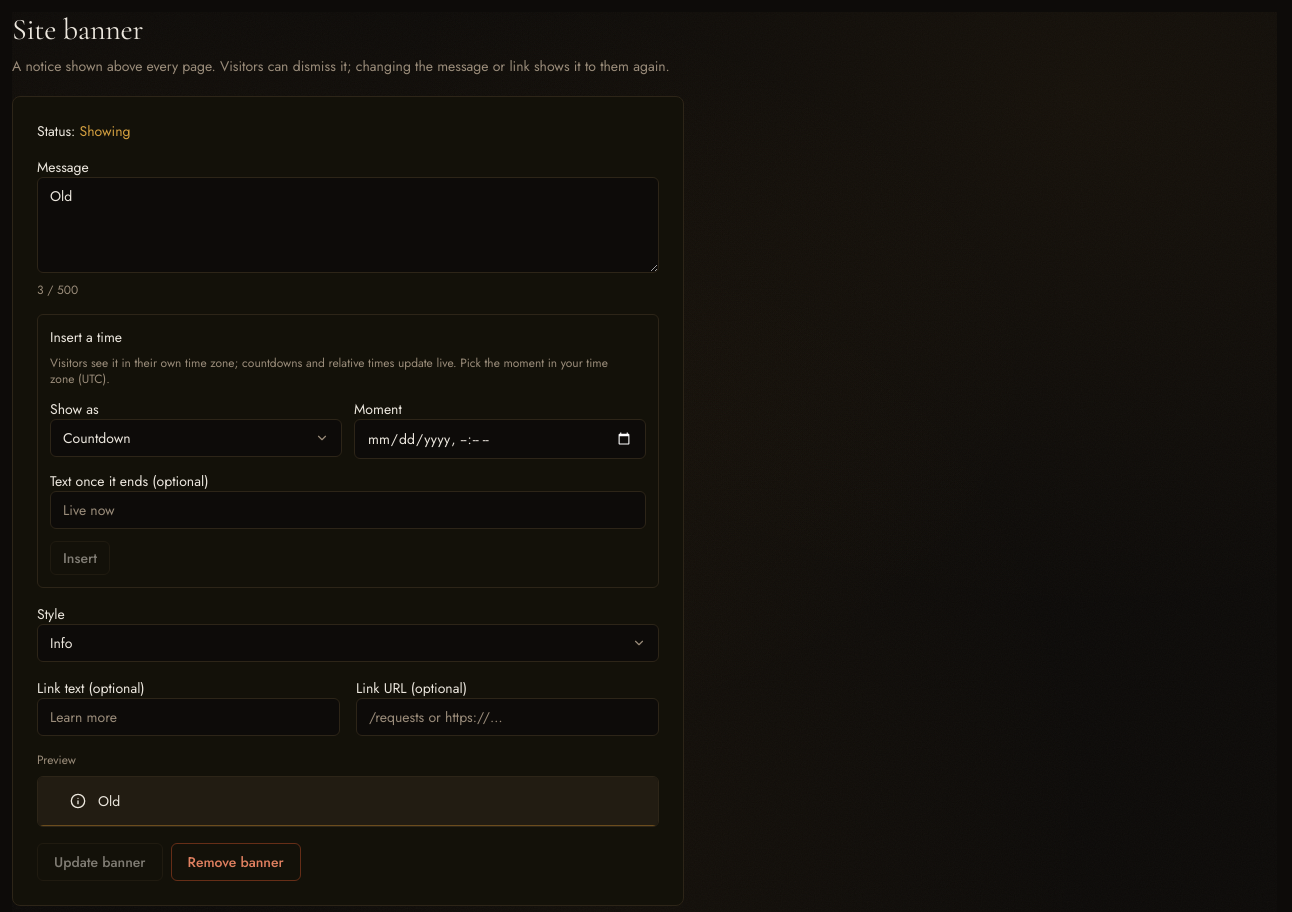
Test: shows banner validation errors from the server
The image size is (1292, 912).
Expected: the text "Showing" is shown, x1=80 y1=121 x2=130 y2=141
Type "Details" into the field labelled "Link text (optional)" at (188, 717), box x1=37 y1=698 x2=340 y2=736
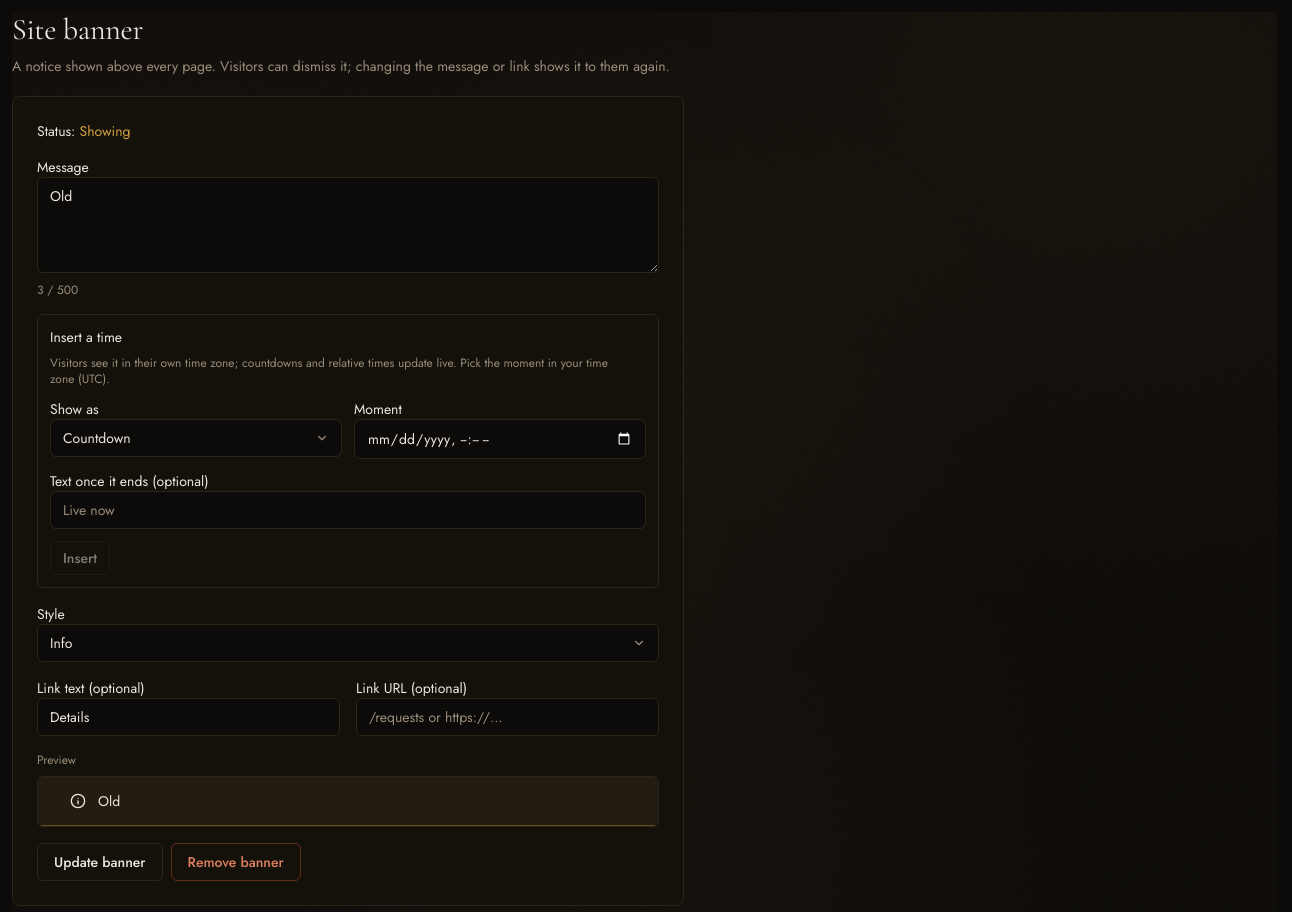
Click the button "Update banner" at (100, 862), box x1=37 y1=843 x2=162 y2=881
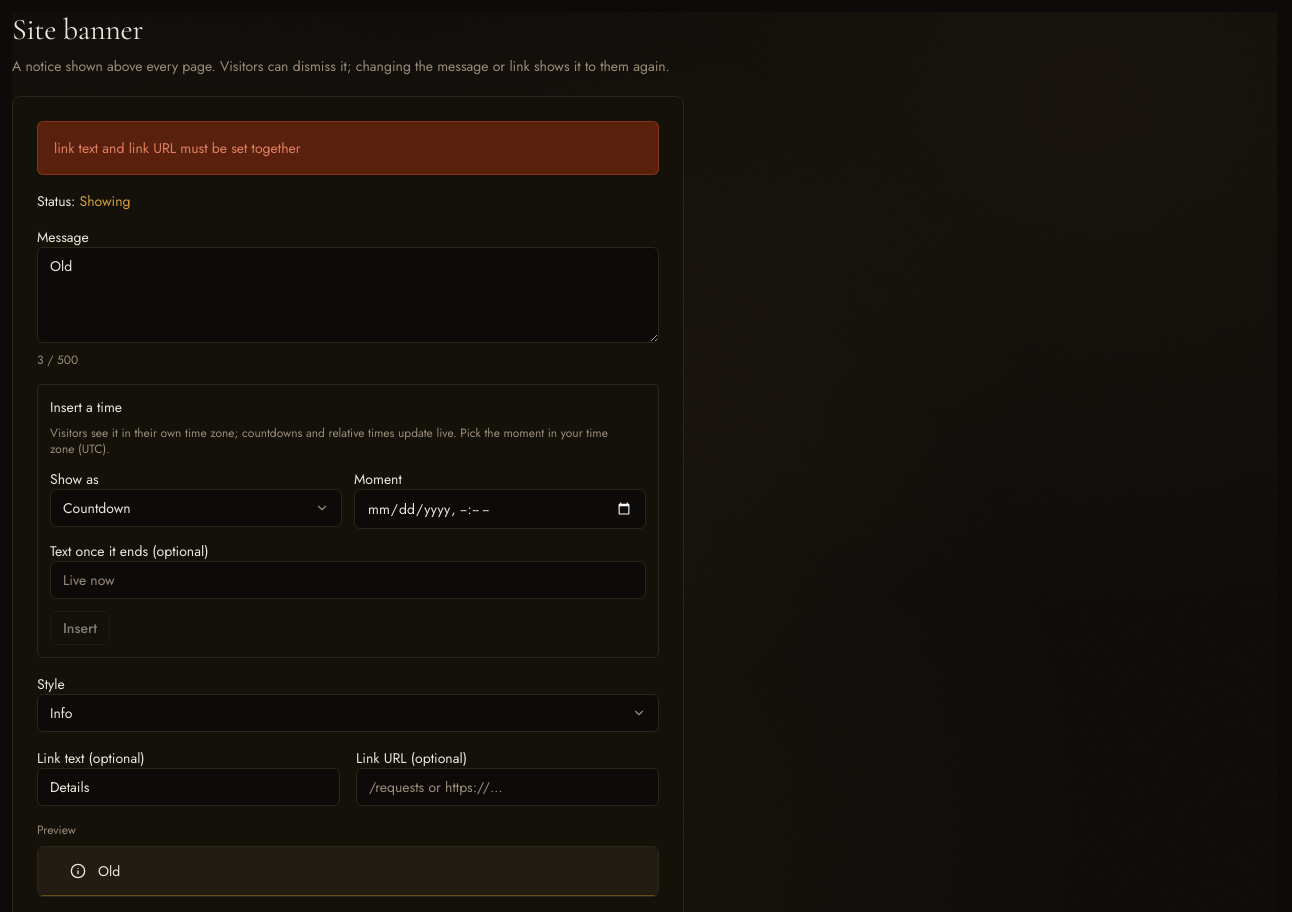
Expected: the text "link text and link URL must be set together" is shown, x1=37 y1=121 x2=659 y2=175
